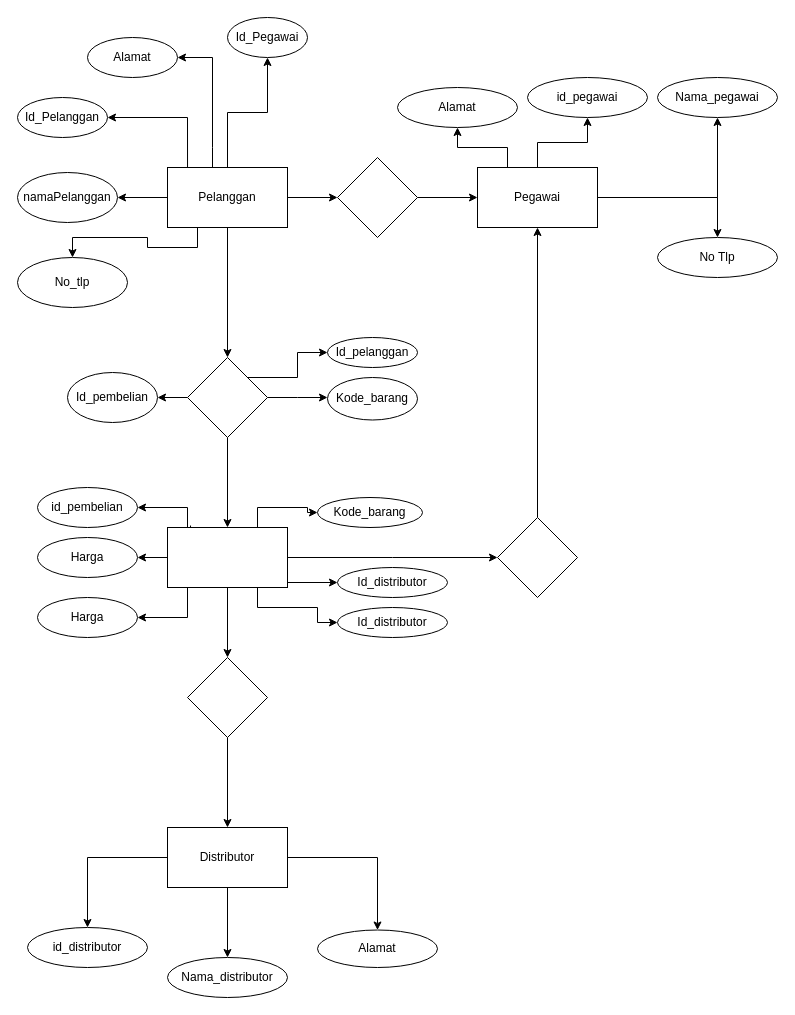
Some shapes in this 795 by 1015 pixel diagram are drawn without their labels. The shapes that lost their labels are listed below. From the top down, each one's centre as x and y in pixels, then its label:
pixel 377 197: Dilayani
pixel 227 397: Membeli
pixel 227 557: Barang
pixel 537 557: Mengecek
pixel 227 697: DiSupply
